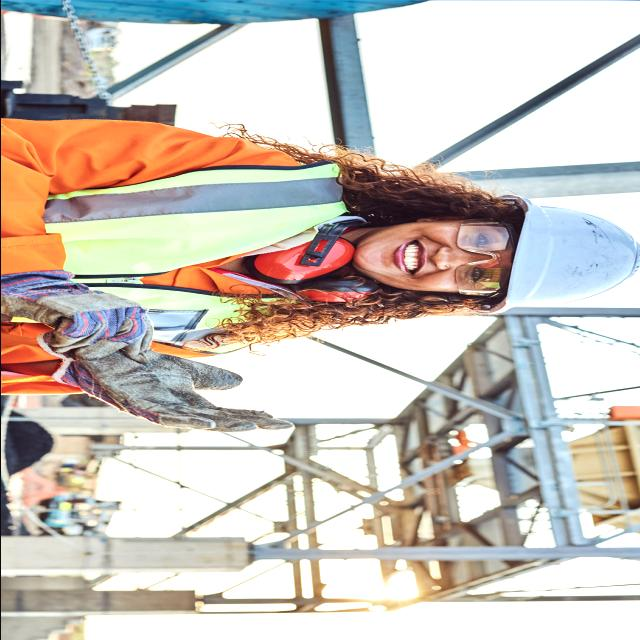Ear Muffs: (255, 217, 387, 305)
Gloves: (0, 273, 294, 440)
Hard Hat: (457, 194, 640, 328)
Reflective Vest: (1, 154, 354, 358)
Safety Glasses: (447, 212, 519, 304)
